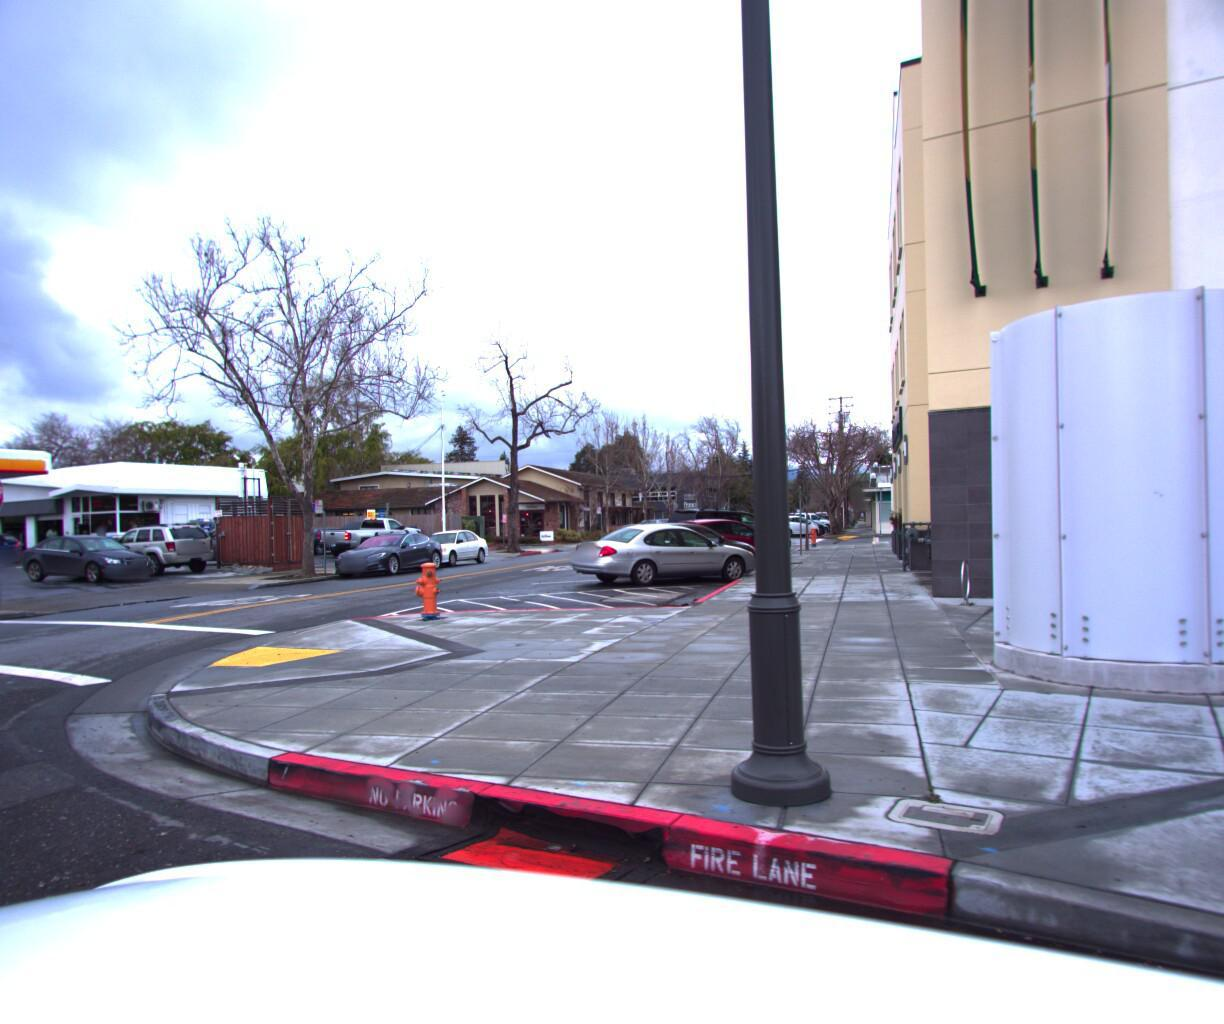car: (556, 524, 762, 596), (592, 524, 760, 584), (657, 510, 800, 567), (17, 536, 168, 588), (91, 527, 225, 581), (658, 521, 785, 573), (323, 531, 448, 583), (318, 521, 432, 561), (402, 532, 493, 575), (764, 518, 827, 543), (771, 514, 829, 538)
